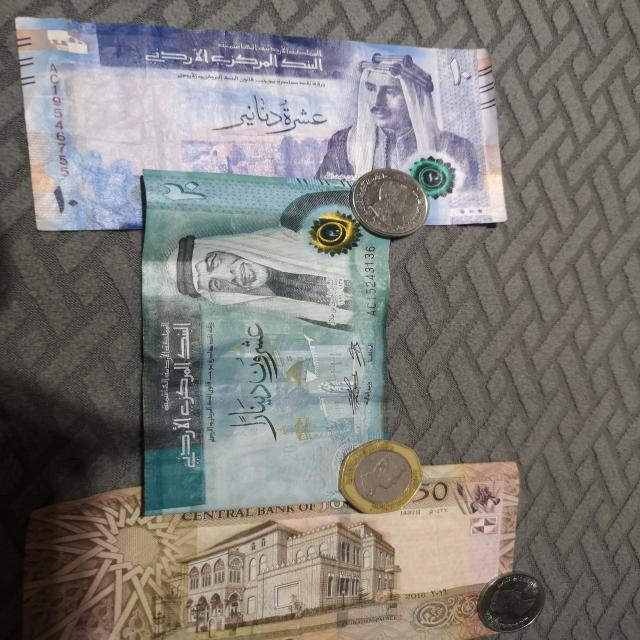10-coins: (350, 168, 430, 238)
10-dinar: (15, 16, 508, 231)
20-dinar: (142, 168, 390, 516)
5-coins: (477, 571, 545, 633)
50-coins: (338, 439, 423, 514)
50-dinar: (23, 461, 520, 640)
